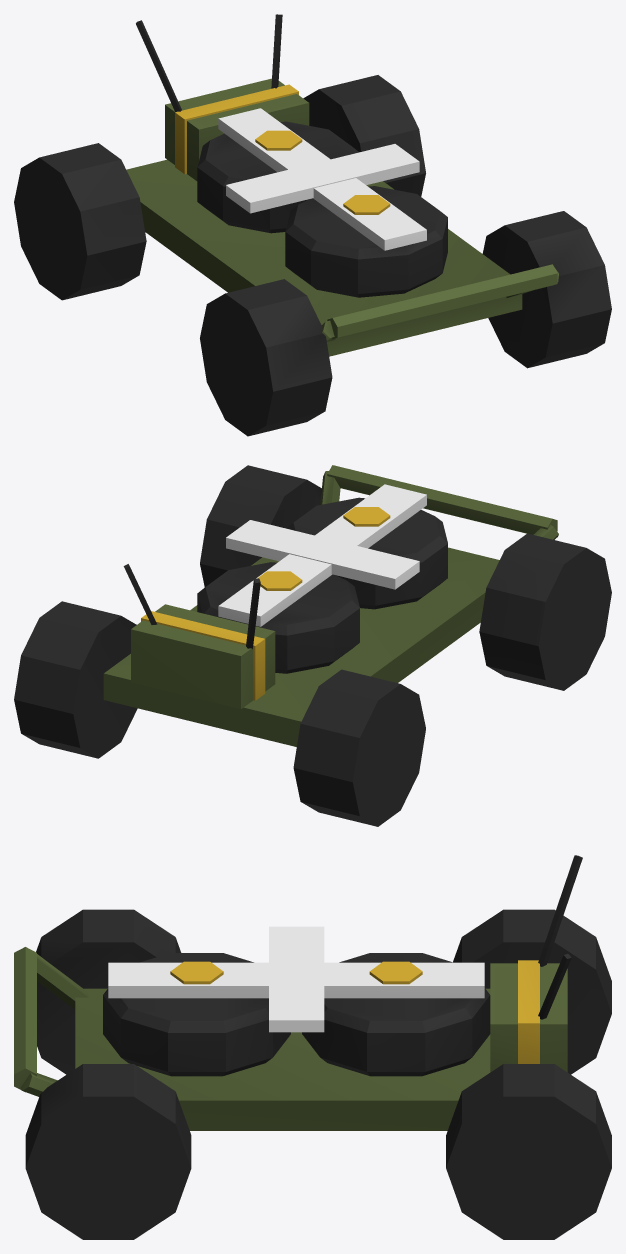
Rendered from ua-ratel.glb.
The picture shows the model from 3 angles, top to bottom: view 1: azimuth 30°, elevation 25°; view 2: azimuth 150°, elevation 25°; view 3: azimuth 270°, elevation 25°; orthographic projection. The views are drawn at different scales.
Visible parts, largest first — view 1: ua-ratel; view 2: ua-ratel; view 3: ua-ratel.
Part boxes in pixels (x1=…): ua-ratel: x1=14, y1=14, x2=611, y2=436; ua-ratel: x1=14, y1=465, x2=611, y2=826; ua-ratel: x1=14, y1=855, x2=611, y2=1239.
Size of the model in its own units: 0.4 by 0.2577 by 0.5404.
